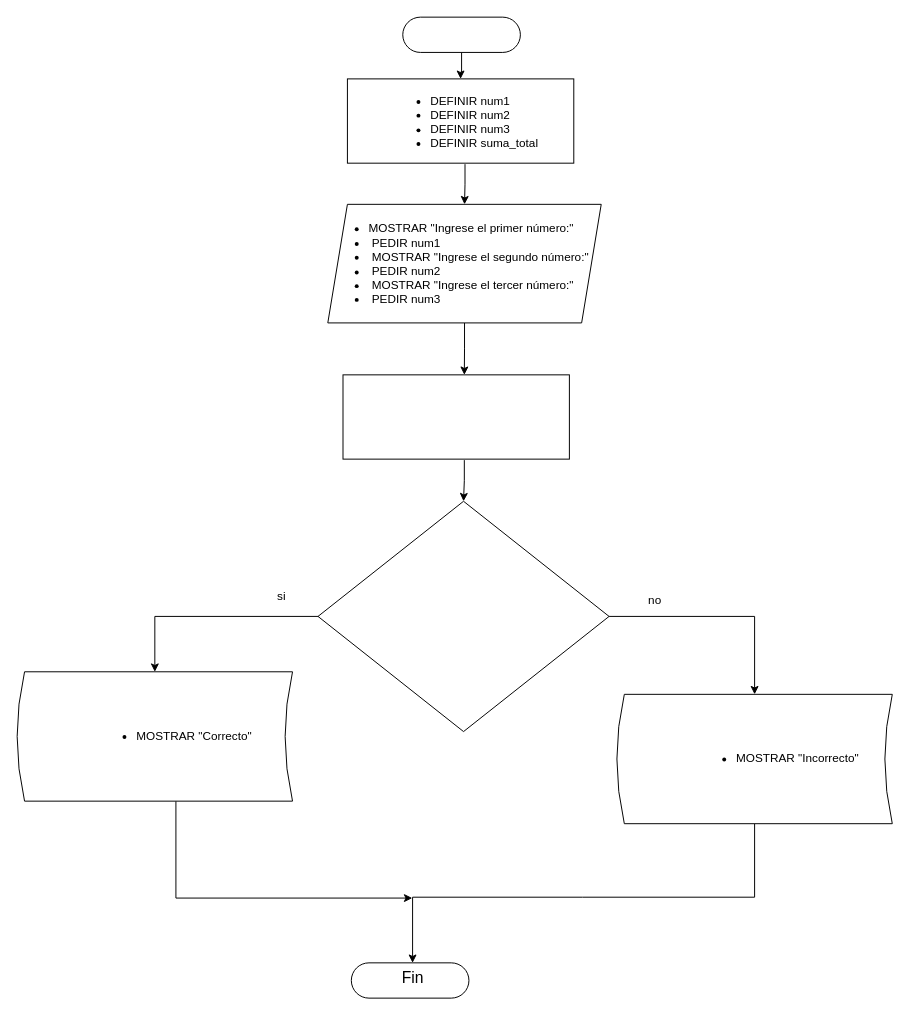
The diagram is 909 pixels wide and 1015 high, and some of its shapes have lost their labels. The shapes that lost their labels are listed below. From the top down, each one's box as (x1, y1, x2, y2) in pixels, then its label:
(402, 16, 520, 52): Inicio
(342, 374, 569, 459): suma_total = num1 + num2 + num3
(317, 500, 609, 732): num1 == 30 OR num2 == 30 OR num3 == 30 OR suma_total == 30
